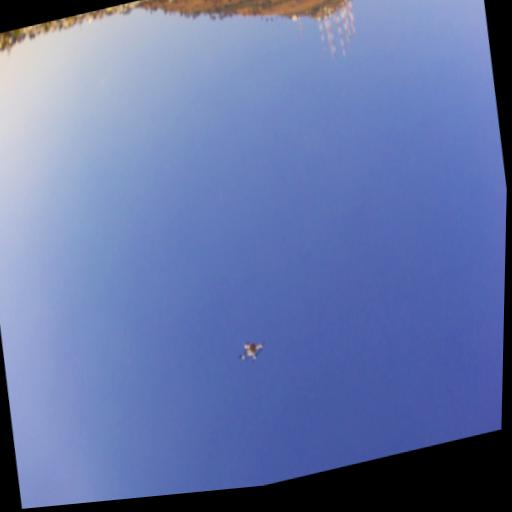drones: (233, 327, 271, 373)
